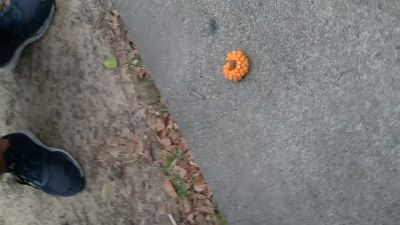eggs: (221, 48, 251, 82)
